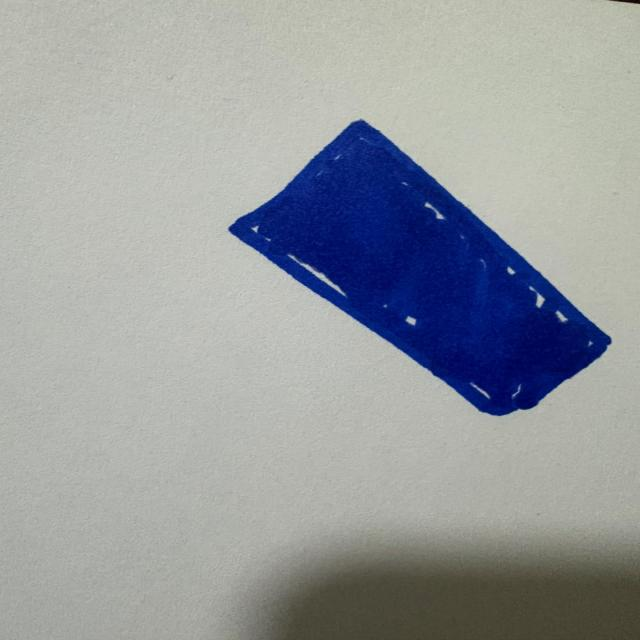Rectangle: (229, 120, 611, 417)
